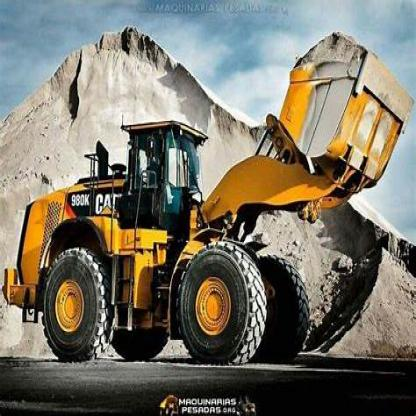bull_dozer/loader/grader: (20, 36, 406, 370)
